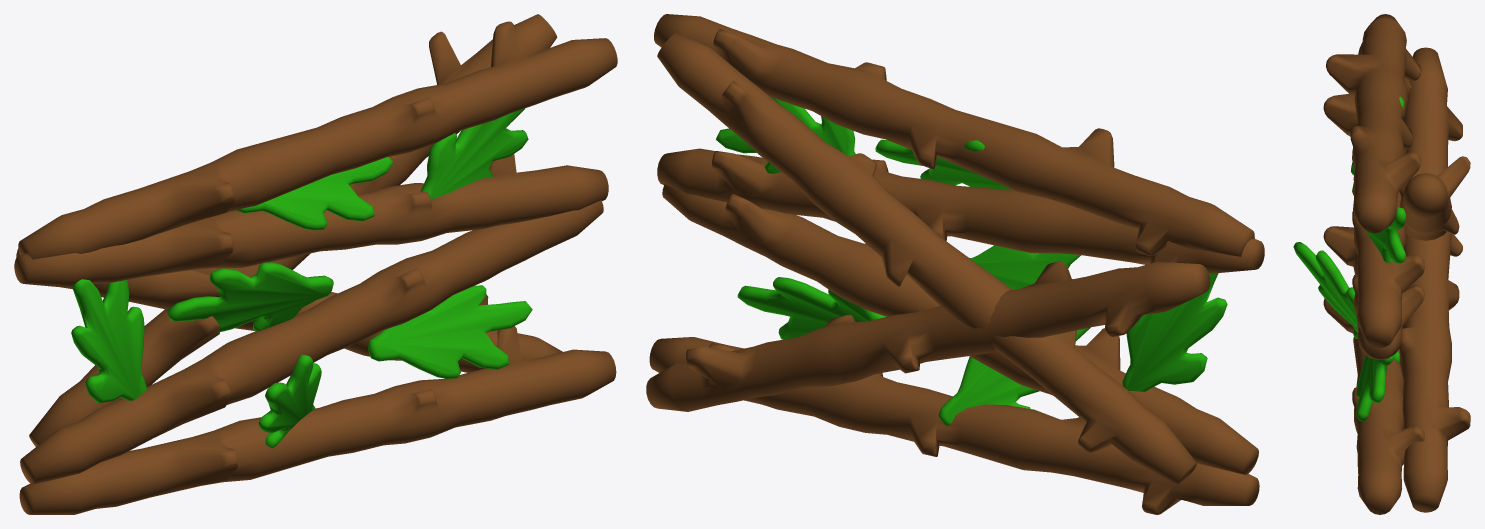
File: HazardBlock.fbx
3 views of the same model, side by side, from view 1: azimuth 30°, elevation 25°; view 2: azimuth 150°, elevation 25°; view 3: azimuth 270°, elevation 25° (orthographic). The views are drawn at different scales.
Visible parts, largest first — view 1: Cylinder.014; view 2: Cylinder.014; view 3: Cylinder.014.
Part boxes in pixels (x1,y1,x2,y2): Cylinder.014: (14, 14, 617, 514); Cylinder.014: (646, 14, 1264, 514); Cylinder.014: (1293, 14, 1470, 514).
Bounding box in the file's own units: 79.5 × 48.64 × 23.28.
